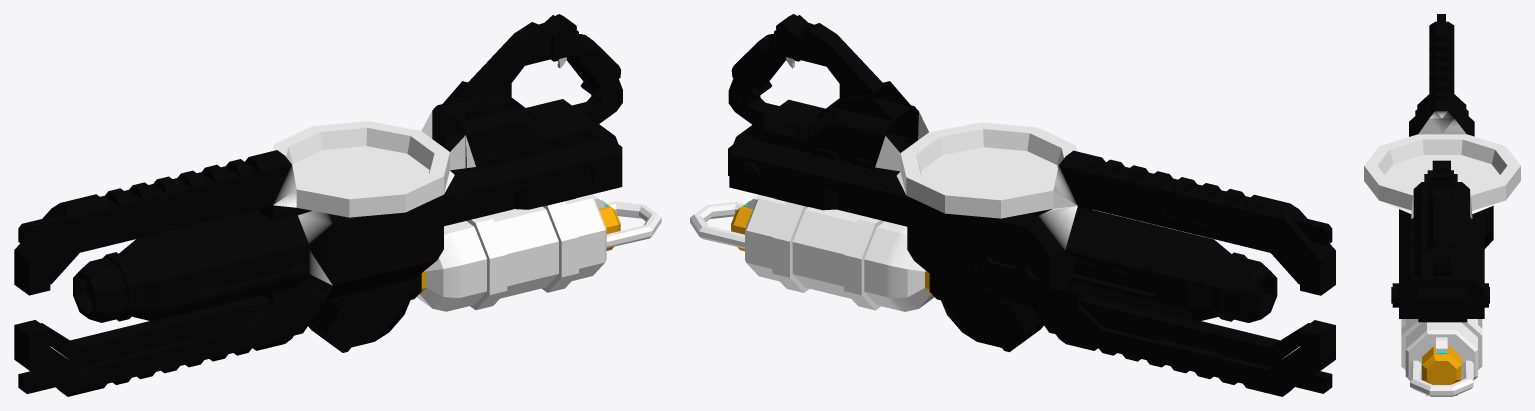
File: 枪二版.fbx
The picture shows the model from 3 angles, left to right: view 1: azimuth 30°, elevation 25°; view 2: azimuth 150°, elevation 25°; view 3: azimuth 270°, elevation 25°; orthographic projection. The views are drawn at different scales.
Visible parts, largest first — view 1: SM_FT01, SM_FT01_Cylinder; view 2: SM_FT01, SM_FT01_Cylinder; view 3: SM_FT01, SM_FT01_Cylinder.
Part boxes in pixels (bbox=[...]): SM_FT01: bbox=[14, 14, 622, 396]; SM_FT01_Cylinder: bbox=[417, 194, 661, 311]; SM_FT01: bbox=[728, 14, 1335, 396]; SM_FT01_Cylinder: bbox=[690, 195, 934, 311]; SM_FT01: bbox=[1364, 14, 1520, 322]; SM_FT01_Cylinder: bbox=[1401, 319, 1482, 396].
Bounding box in the file's own units: 100 × 40 × 25.45.
